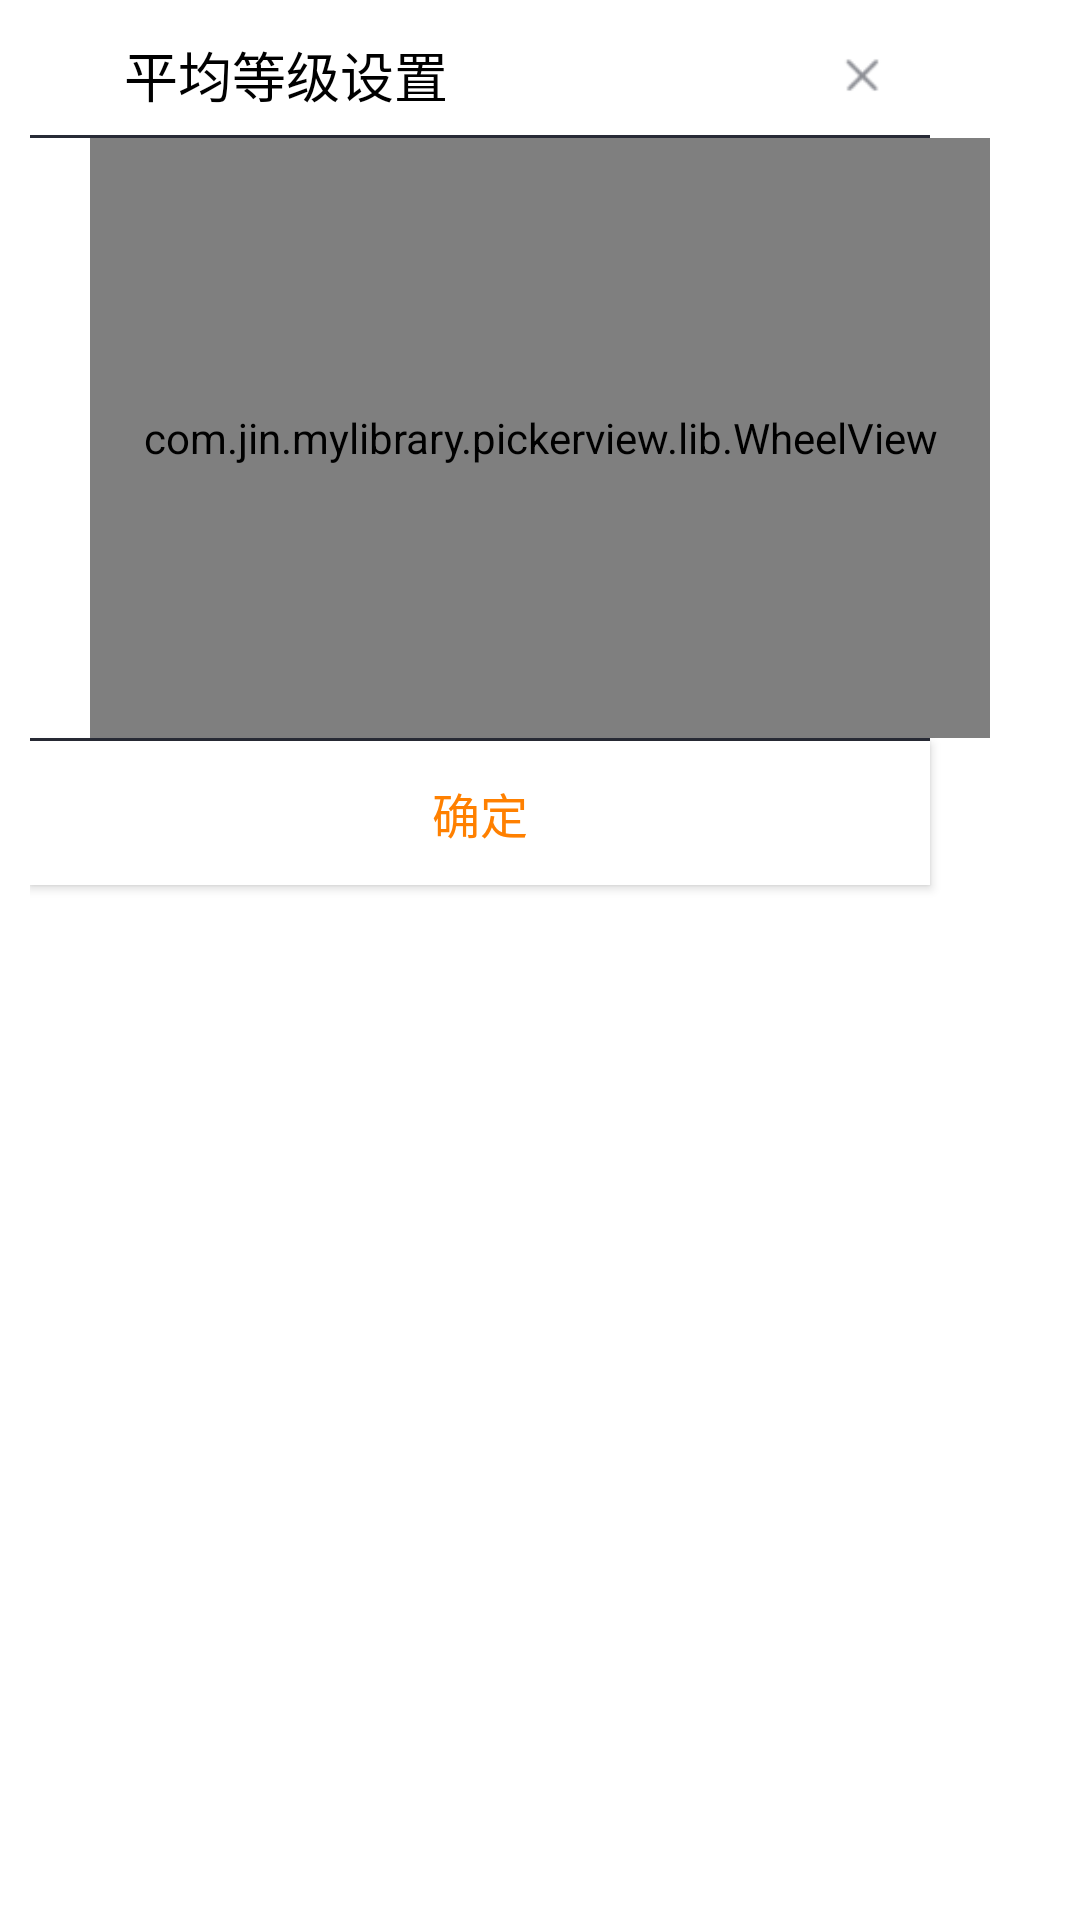

Icon click points for this 1080w x 1920h phone screenshot, format (x=x, y=y):
cancel: (x=862, y=75)
